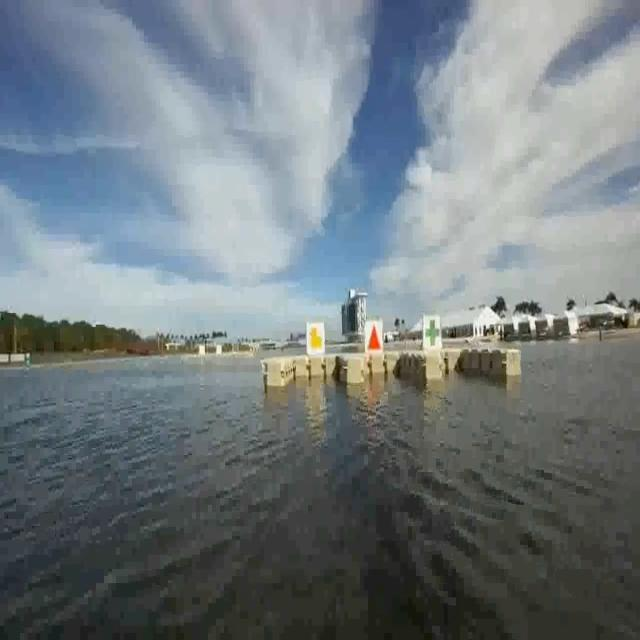blue-cross: (422, 315, 441, 349)
red-dot: (367, 324, 382, 354)
yellow-duck: (309, 323, 325, 352)
